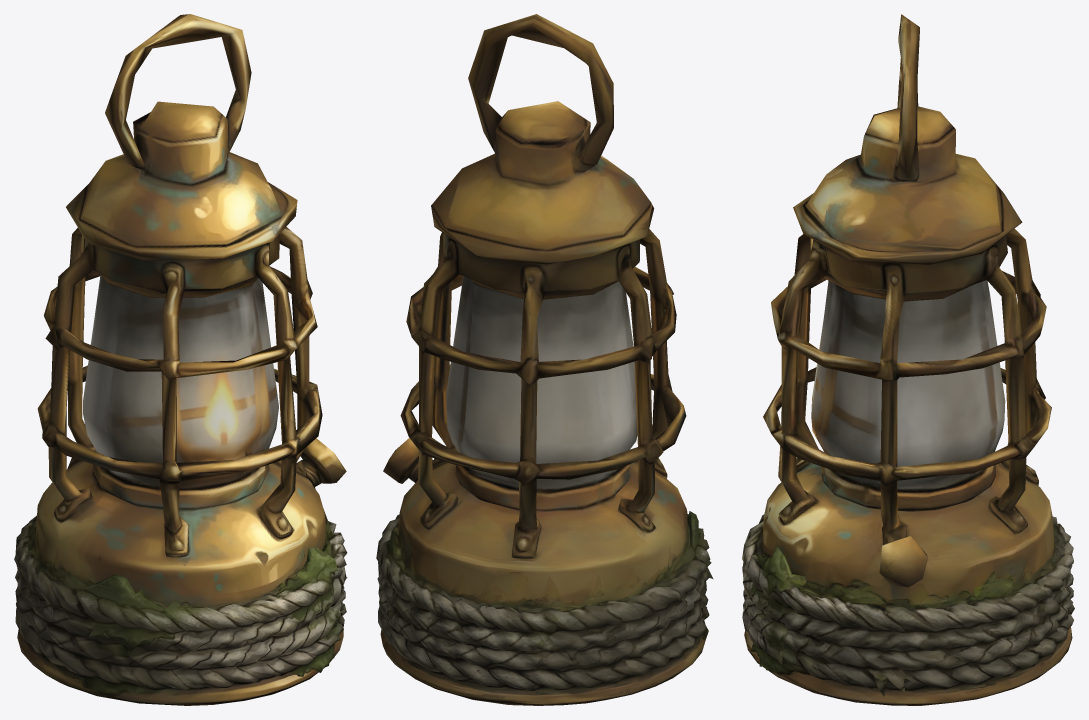
Rendered from PIPELINE3D-con_whale_oil_lamp-batch2-1-delivery-model-fbx-5bb50f6d83bd-c66a079f05a6.fbx.
The picture shows the model from 3 angles, left to right: view 1: azimuth 30°, elevation 25°; view 2: azimuth 150°, elevation 25°; view 3: azimuth 270°, elevation 25°; orthographic projection.
Visible parts, largest first — view 1: tripo_node_cb373695-43bc-4380-be92-c4da463ca6b3; view 2: tripo_node_cb373695-43bc-4380-be92-c4da463ca6b3; view 3: tripo_node_cb373695-43bc-4380-be92-c4da463ca6b3.
Boxes of the visible parts, x1,y1,x2,y2 form: tripo_node_cb373695-43bc-4380-be92-c4da463ca6b3: (14,14,347,705); tripo_node_cb373695-43bc-4380-be92-c4da463ca6b3: (376,14,713,705); tripo_node_cb373695-43bc-4380-be92-c4da463ca6b3: (742,14,1074,705).
Size of the model in its own units: 17.68 by 35 by 17.04.
1 material, 1 textured.
